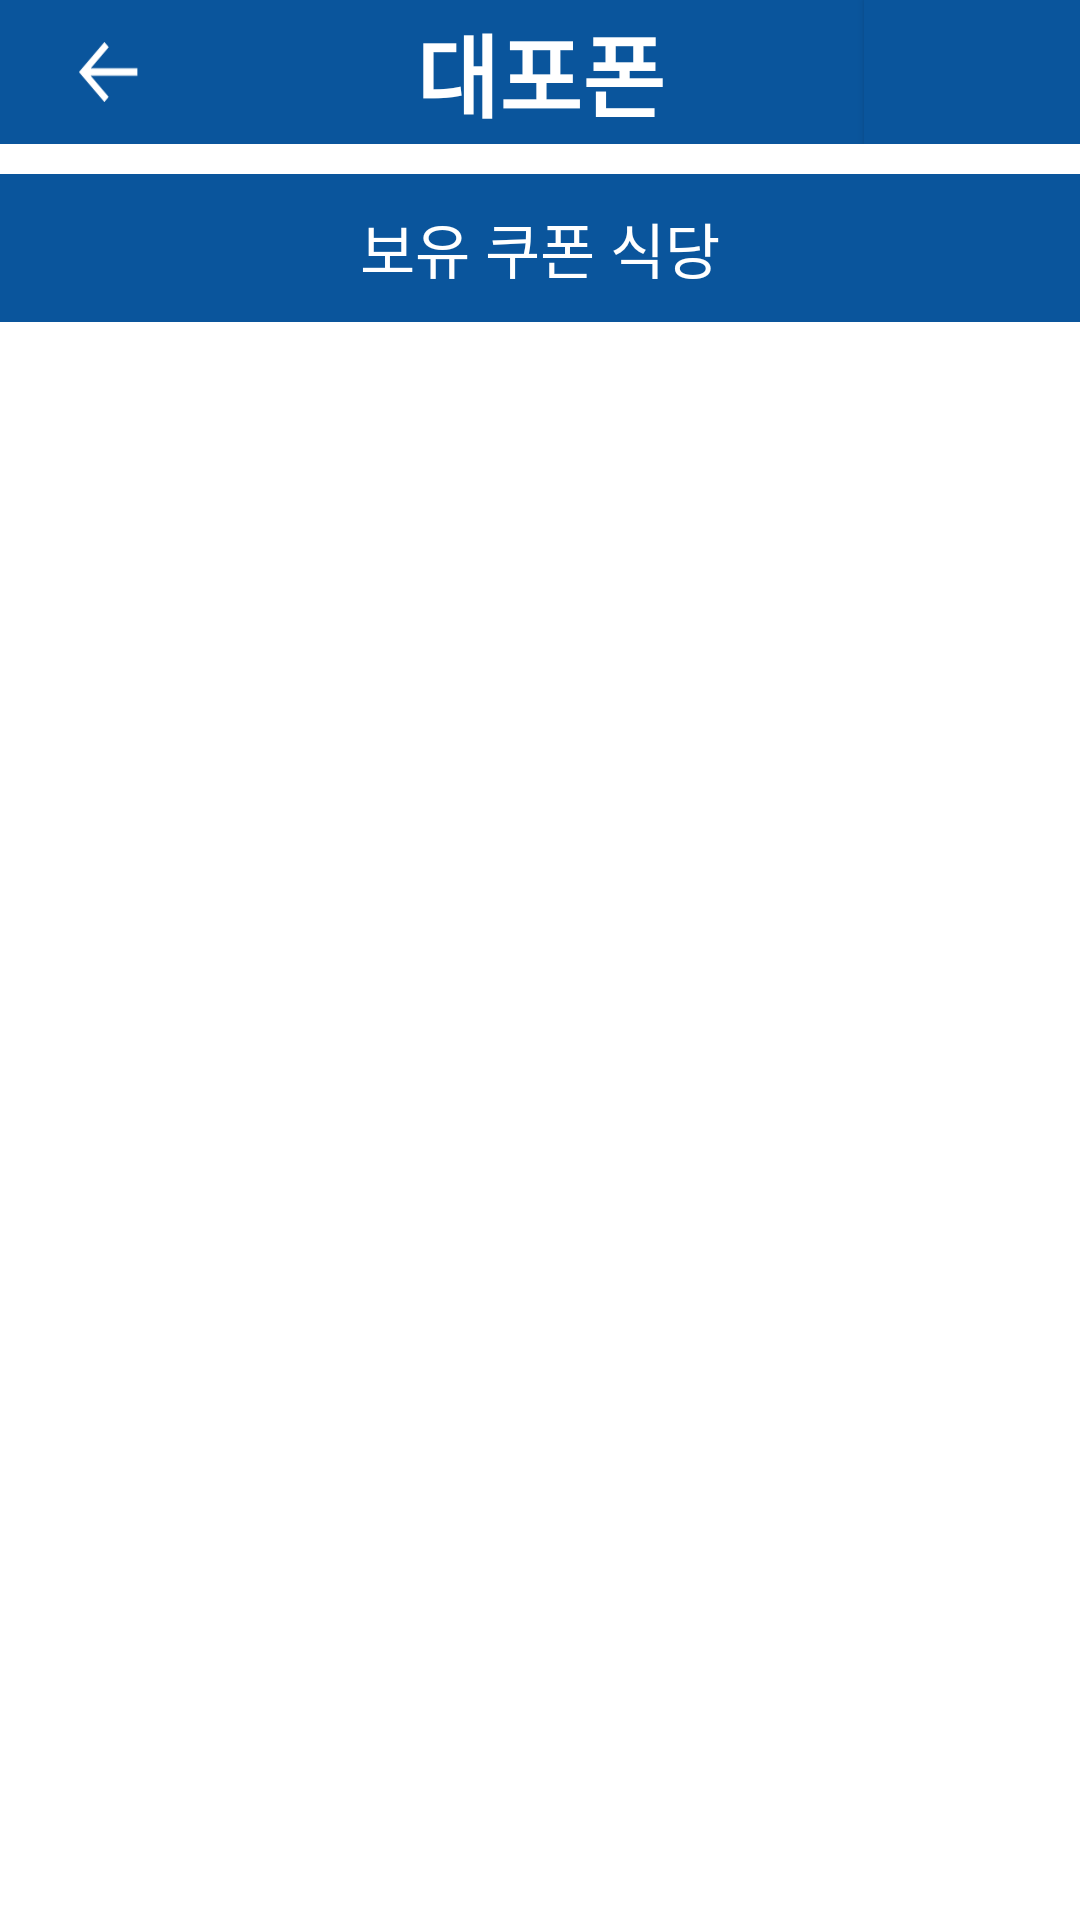

Point at icon controls on the screen. Image size 1080 x 1920, points as (x,y).
back arrow resize: (108,72)
